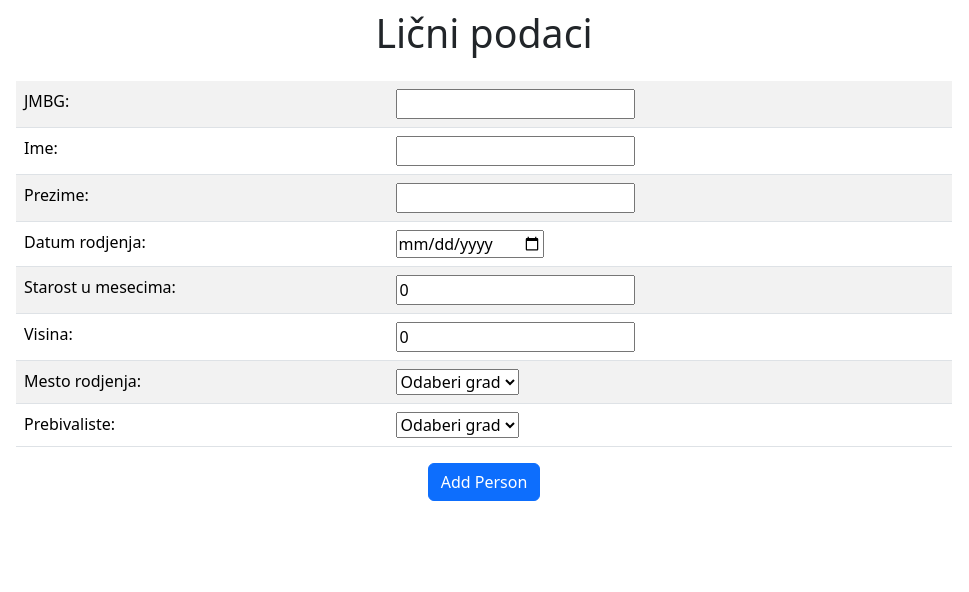
Test: PersonForm › shows validation errors for invalid input
Expected: the dropdown labelled "Mesto rodjenja:" is shown, x1=396 y1=369 x2=518 y2=395
Expected: the dropdown labelled "Prebivaliste:" is shown, x1=396 y1=412 x2=518 y2=438
Click the button "Add Person".
click(484, 482)  # box x1=428 y1=463 x2=540 y2=501
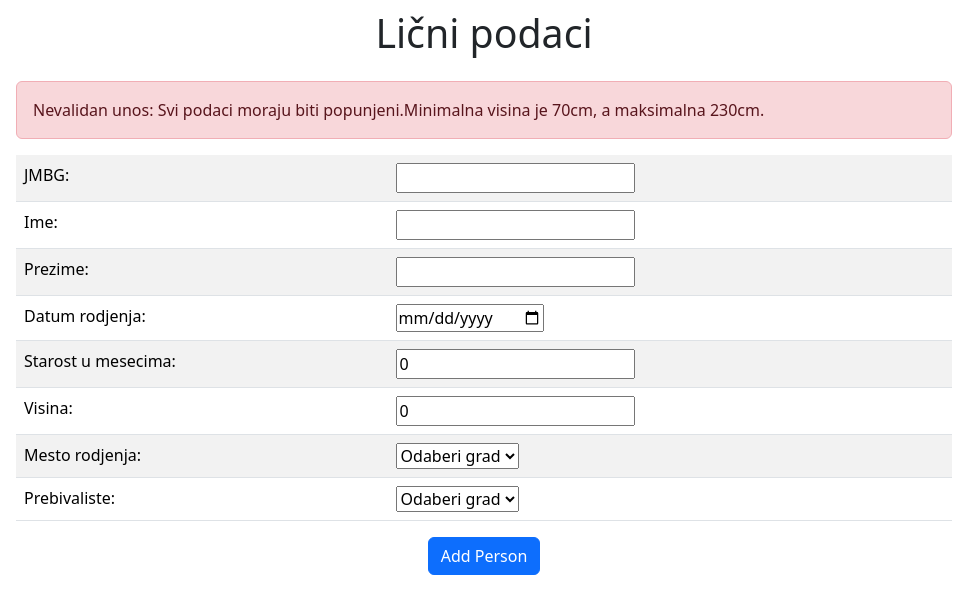
Expected: the text "Nevalidan unos" is shown, x1=33 y1=99 x2=764 y2=121
